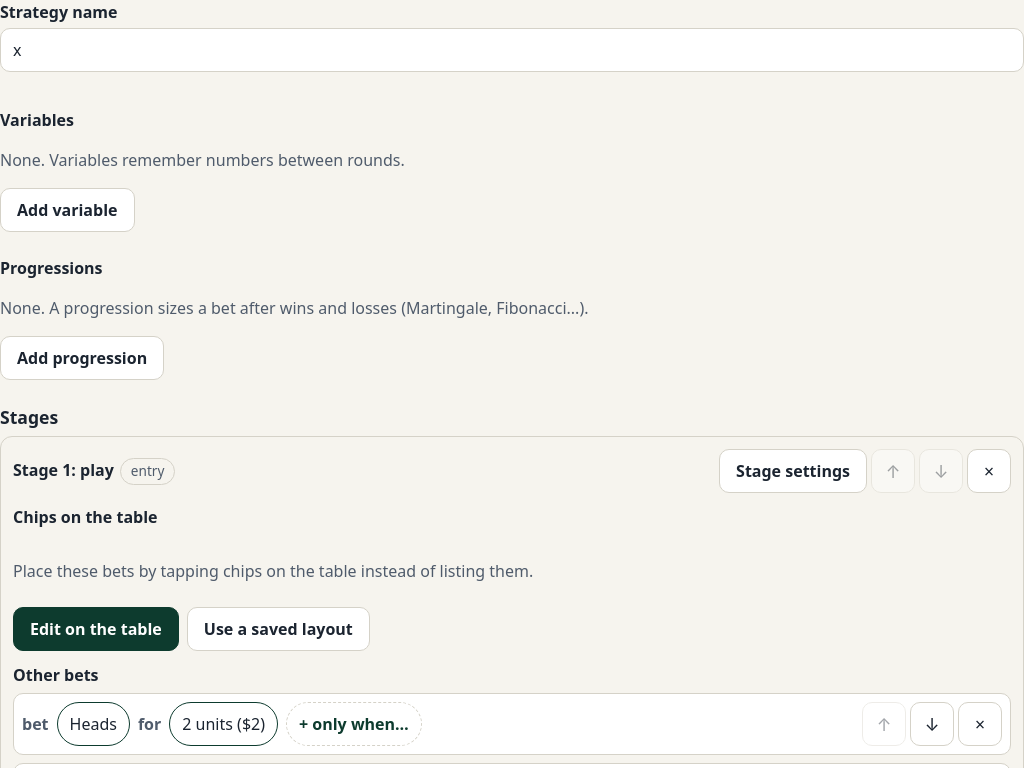
ChipsPanel: starting points › cancelling after "Edit on the table" and edits (Discard, or the sheet Close) reverts too
Click the button "Edit on the table" at (96, 629), box [13,607,179,651]
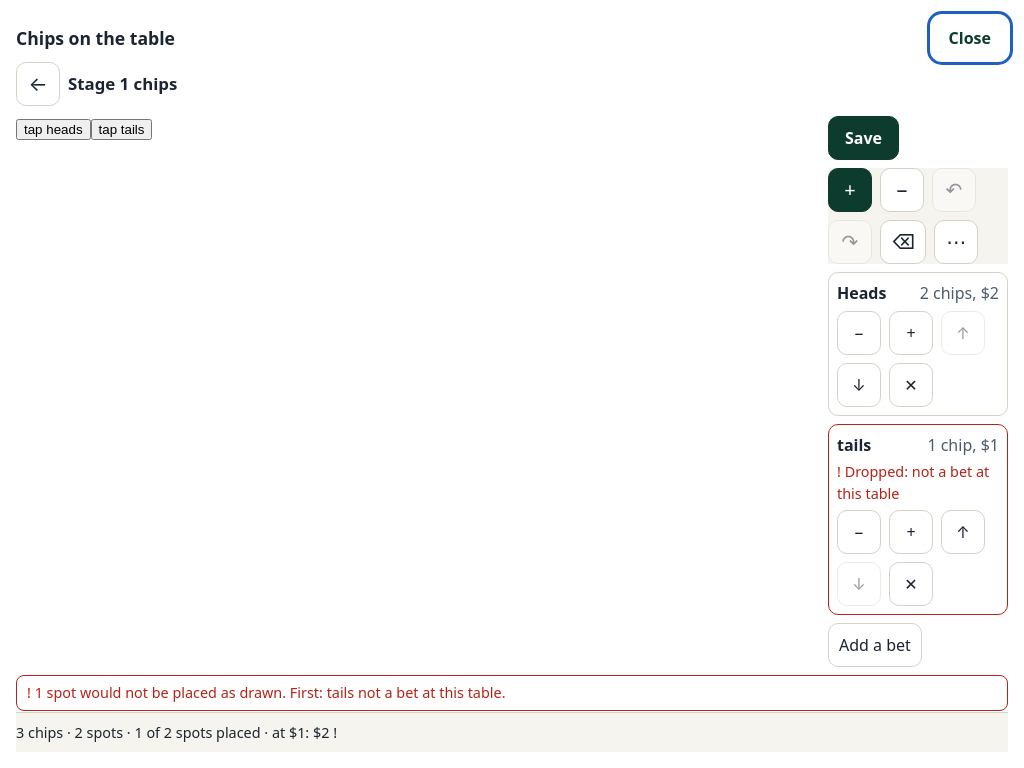
Click the button "tap heads" at (53, 130), box [16,119,90,140]
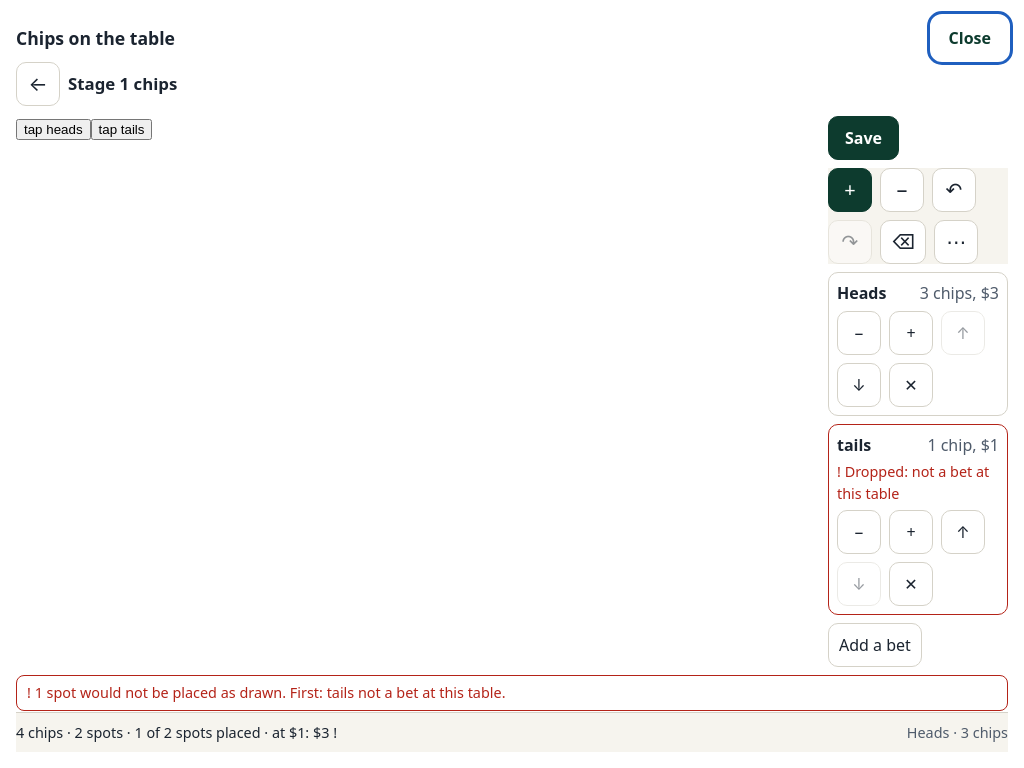
Click the button named "Back" at (38, 84), box [16,62,60,106]
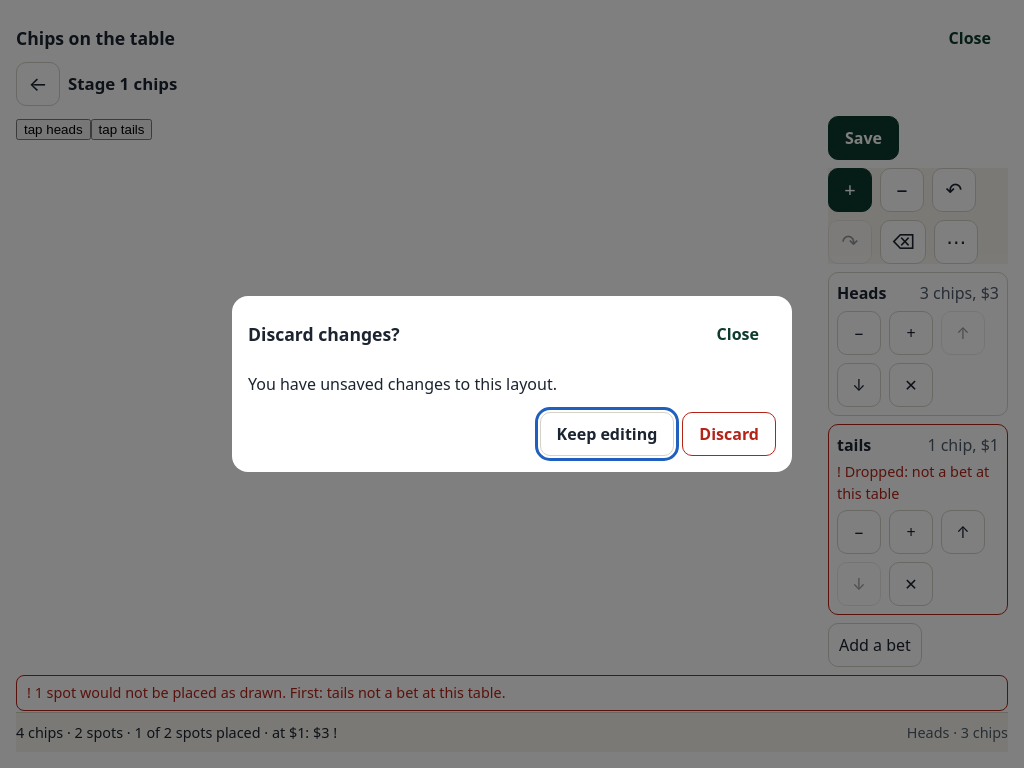
Click the button "Discard" at (729, 434), box [682,412,776,456]
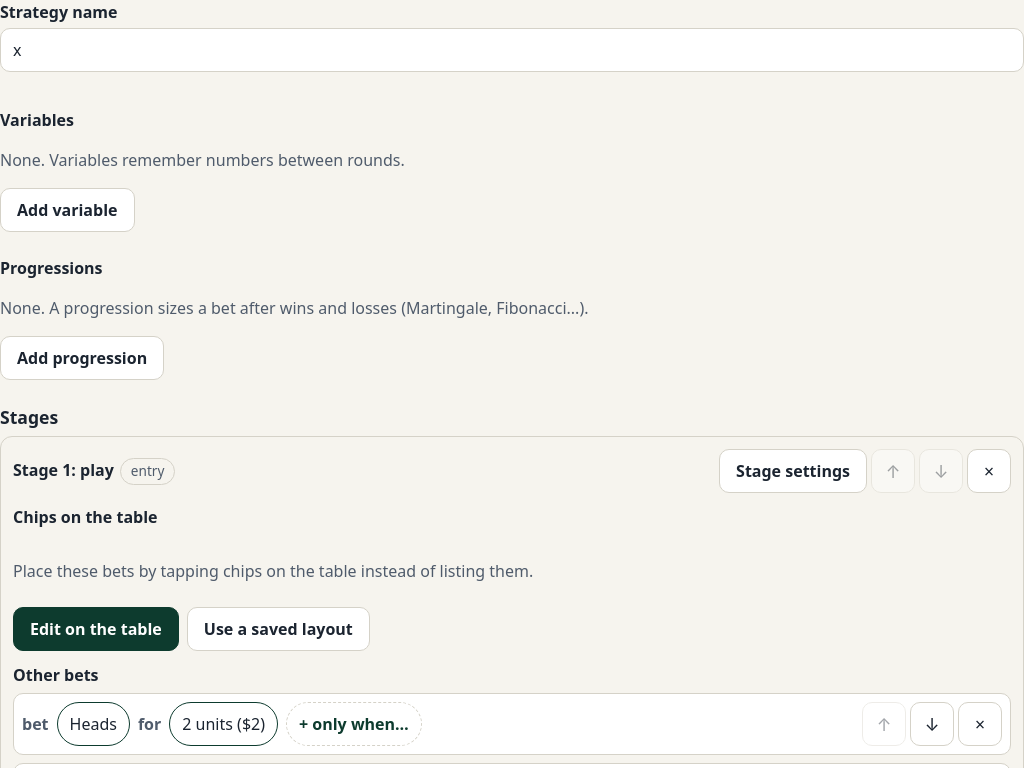
Result: the dialog is gone
# The sheet's own Close goes through the same guard and the same revert.
Click the button "Edit on the table" at (96, 629), box [13,607,179,651]
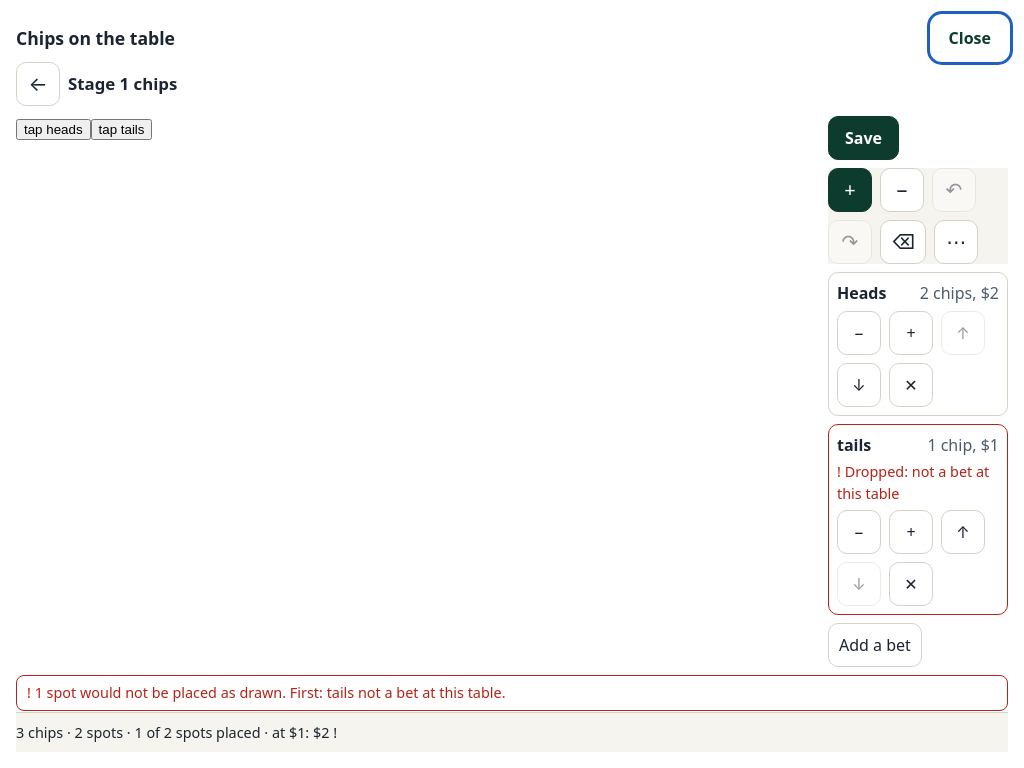
Click the button "Close" at (970, 38), box [932,16,1008,60]
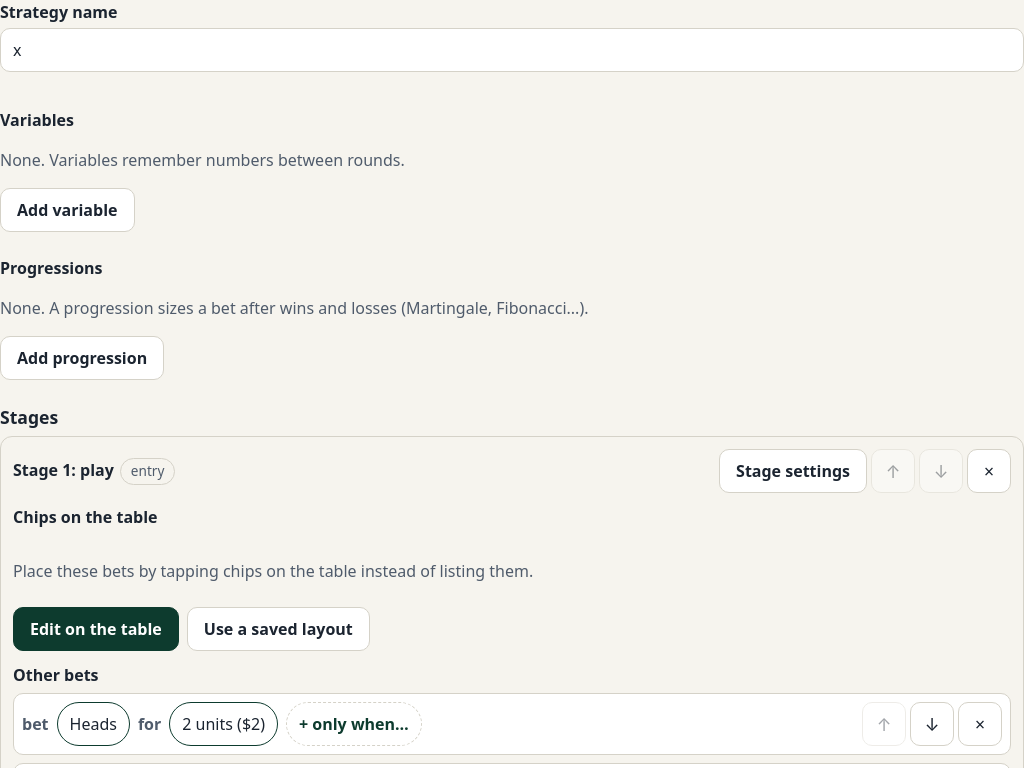
Result: the dialog is gone
